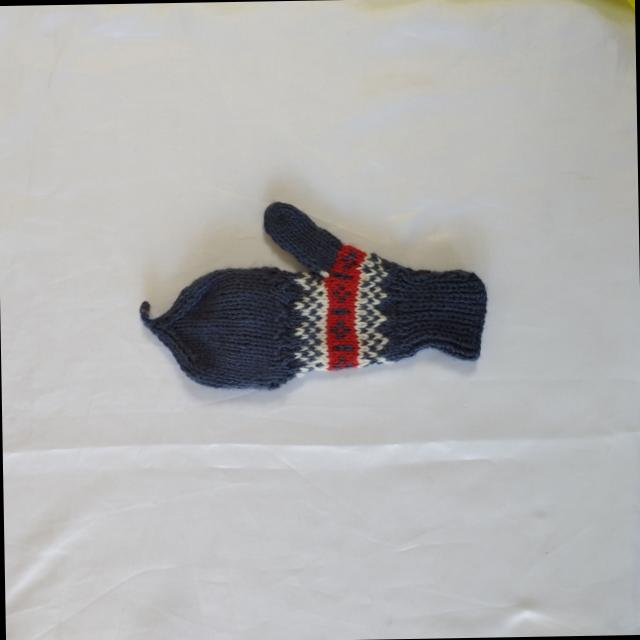Guante: (137, 196, 490, 393)
